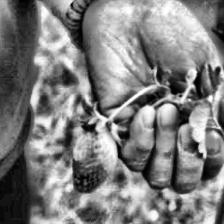Gray Mold: (72, 130, 100, 174)
